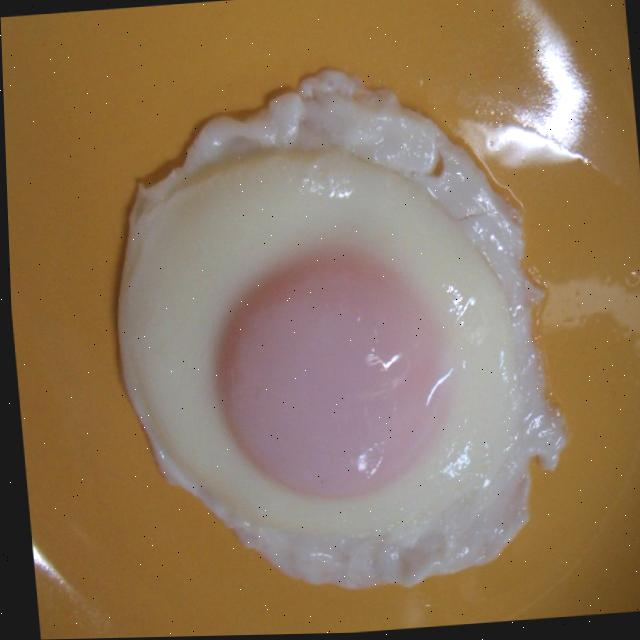鸡蛋料理: (62, 91, 561, 581)
